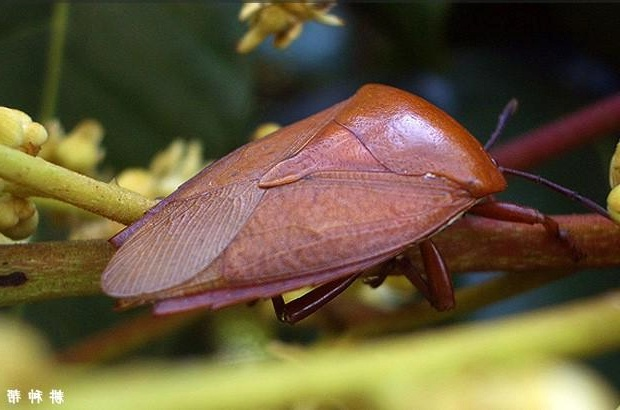Stink_Bug: (98, 69, 512, 306)
